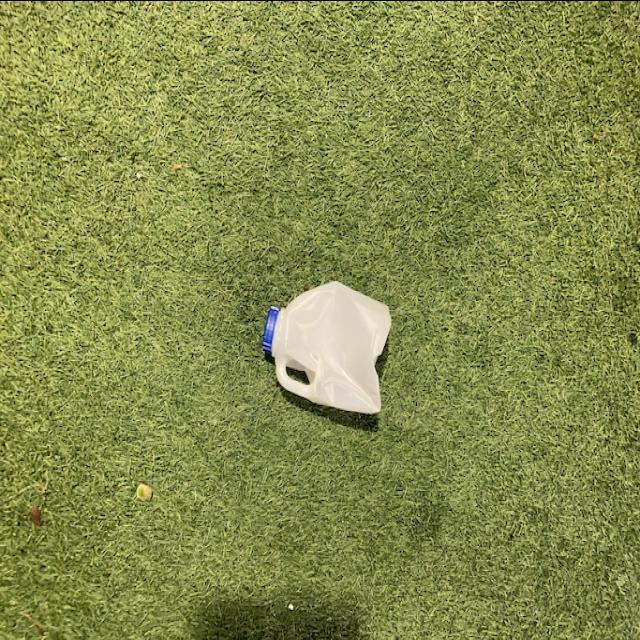HDPEM: (262, 266, 396, 422)
